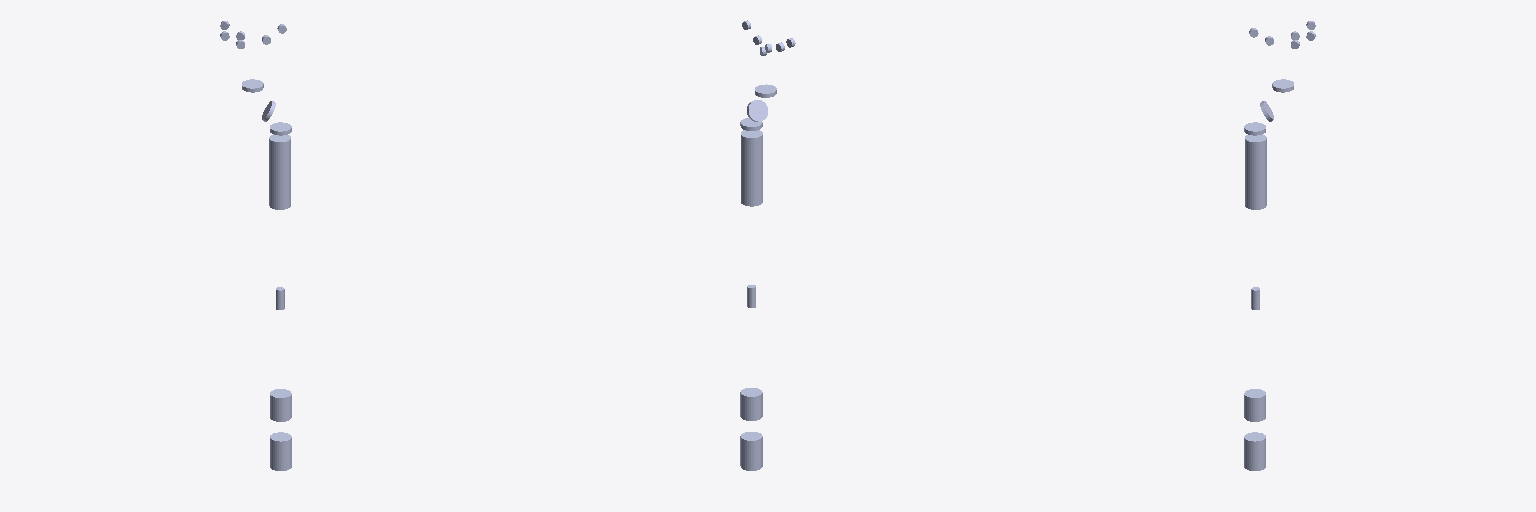
The robot description file, URDF, robot "j2n6s300":
<?xml version="1.0" ?>
<!-- =================================================================================== -->
<!-- |    This document was autogenerated by xacro from j2n6s300_standalone.xacro      | -->
<!-- |    EDITING THIS FILE BY HAND IS NOT RECOMMENDED                                 | -->
<!-- =================================================================================== -->
<!-- j2n6s300 refers to jaco v2 6DOF non-spherical 3fingers -->
<robot name="j2n6s300" xmlns:body="http://playerstage.sourceforge.net/gazebo/xmlschema/#body" xmlns:controller="http://playerstage.sourceforge.net/gazebo/xmlschema/#controller" xmlns:gazebo="http://playerstage.sourceforge.net/gazebo/xmlschema/#gz" xmlns:geom="http://playerstage.sourceforge.net/gazebo/xmlschema/#geom" xmlns:interface="http://playerstage.sourceforge.net/gazebo/xmlschema/#interface" xmlns:joint="http://playerstage.sourceforge.net/gazebo/xmlschema/#joint" xmlns:model="http://playerstage.sourceforge.net/gazebo/xmlschema/#model" xmlns:physics="http://playerstage.sourceforge.net/gazebo/xmlschema/#physics" xmlns:renderable="http://playerstage.sourceforge.net/gazebo/xmlschema/#renderable" xmlns:rendering="http://playerstage.sourceforge.net/gazebo/xmlschema/#rendering" xmlns:sensor="http://playerstage.sourceforge.net/gazebo/xmlschema/#sensor" xmlns:xacro="http://ros.org/wiki/xacro" xmlns:xi="http://www.w3.org/2001/XInclude">
  <!-- links      		mesh_no
   base           		0
   shoulder       		1
   arm            		2
   forearm        		3
   wrist          		4
   arm_mico       		5
   arm_half1 (7dof)		6
   arm_half2 (7dof)		7
   wrist_spherical_1  8
   wrist_spherical_2  9

   hand 3 finger  		55
   hand_2finger   		56
   finger_proximal		57
   finger_distal      58 
-->
  <!-- links      		mesh_no
   base           		0
   shoulder       		1
   arm            		2
   forearm        		3
   wrist          		4
   arm_mico       		5
   arm_half1 (7dof)		6
   arm_half2 (7dof)		7
   wrist_spherical_1  8
   wrist_spherical_2  9

   hand 3 finger  		55
   hand_2finger   		56
   finger_proximal		57
   finger_distal      58 
-->
  <link name="root">
    <visual>
      <origin rpy="0 0 0" xyz="0 0 0"/>
      <geometry>
        <box size="0 0 0"/>
      </geometry>
      <!--<material name="Black" /> -->
    </visual>
    <collision>
      <origin rpy="0 0 0" xyz="0 0 0"/>
      <geometry>
        <box size="0 0 0"/>
      </geometry>
    </collision>
  </link>
  <!-- for gazebo -->
  <link name="world"/>
  <joint name="connect_root_and_world" type="fixed">
    <child link="root"/>
    <parent link="world"/>
    <origin rpy="0 0 0" xyz="0 0 0"/>
  </joint>
  <!-- ros_control plugin -->
  <gazebo>
    <plugin filename="libgazebo_ros_control.so" name="gazebo_ros_control">
      <robotNamespace>j2n6s300</robotNamespace>
      <robotSimType>gazebo_ros_control/DefaultRobotHWSim</robotSimType>
    </plugin>
  </gazebo>
  <link name="j2n6s300_link_base">
    <visual>
      <origin rpy="0 0 0" xyz="0 0 0.1"/>
      <geometry>
        <cylinder length="0.075" radius="0.025"/>
      </geometry>
      <material name="carbon_fiber">
        <color rgba="0.792156862745098 0.819607843137255 0.933333333333333 1"/>
      </material>
    </visual>
    <collision>
      <origin rpy="0 0 0" xyz="0 0 0.1"/>
      <geometry>
        <cylinder length="0.075" radius="0.025"/>
      </geometry>
    </collision>
    <inertial>
      <mass value="0.46784"/>
      <origin rpy="0 0 0" xyz="0 0 0.1255"/>
      <inertia ixx="0.000951270861568" ixy="0" ixz="0" iyy="0.000951270861568" iyz="0" izz="0.000374272"/>
    </inertial>
  </link>
  <joint name="j2n6s300_joint_base" type="fixed">
    <parent link="root"/>
    <child link="j2n6s300_link_base"/>
    <axis xyz="0 0 0"/>
    <limit effort="2000" lower="0" upper="0" velocity="1"/>
    <origin rpy="0 0 0" xyz="0 0 0"/>
    <dynamics damping="0.0" friction="0.0"/>
  </joint>
  <link name="j2n6s300_link_1">
    <visual>
      <origin rpy="0 0 0" xyz="0 0 -0.06"/>
      <geometry>
        <cylinder length="0.06" radius="0.025"/>
      </geometry>
      <material name="carbon_fiber">
        <color rgba="0.792156862745098 0.819607843137255 0.933333333333333 1"/>
      </material>
    </visual>
    <collision>
      <origin rpy="0 0 0" xyz="0 0 -0.06"/>
      <geometry>
        <cylinder length="0.06" radius="0.025"/>
      </geometry>
    </collision>
    <inertial>
      <mass value="0.7477"/>
      <origin xyz="0 -0.002 -0.0605"/>
      <inertia ixx="0.00152031725204" ixy="0" ixz="0" iyy="0.00152031725204" iyz="0" izz="0.00059816"/>
    </inertial>
  </link>
  <joint name="j2n6s300_joint_1" type="continuous">
    <parent link="j2n6s300_link_base"/>
    <child link="j2n6s300_link_1"/>
    <axis xyz="0 0 1"/>
    <limit effort="2000" lower="-6.28318530718" upper="6.28318530718" velocity="1"/>
    <origin rpy="0 3.14159265359 0" xyz="0 0 0.15675"/>
    <dynamics damping="0.0" friction="0.0"/>
  </joint>
  <transmission name="j2n6s300_joint_1_trans">
    <type>transmission_interface/SimpleTransmission</type>
    <joint name="j2n6s300_joint_1">
      <hardwareInterface>EffortJointInterface</hardwareInterface>
    </joint>
    <actuator name="j2n6s300_joint_1_actuator">
      <hardwareInterface>EffortJointInterface</hardwareInterface>
      <mechanicalReduction>160</mechanicalReduction>
    </actuator>
  </transmission>
  <link name="j2n6s300_link_2">
    <visual>
      <origin rpy="1.57079632679 0 0" xyz="0 -0.21 0"/>
      <geometry>
        <cylinder length="0.05" radius="0.01"/>
      </geometry>
      <material name="carbon_fiber">
        <color rgba="0.792156862745098 0.819607843137255 0.933333333333333 1"/>
      </material>
    </visual>
    <collision>
      <origin rpy="1.57079632679 0 0" xyz="0 -0.21 0"/>
      <geometry>
        <cylinder length="0.3" radius="0.025"/>
      </geometry>
    </collision>
    <inertial>
      <mass value="0.99"/>
      <origin xyz="0 -0.2065 -0.01"/>
      <inertia ixx="0.010502207991" ixy="0" ixz="0" iyy="0.000792" iyz="0" izz="0.010502207991"/>
    </inertial>
  </link>
  <joint name="j2n6s300_joint_2" type="revolute">
    <parent link="j2n6s300_link_1"/>
    <child link="j2n6s300_link_2"/>
    <axis xyz="0 0 1"/>
    <limit effort="2000" lower="-2.618" upper="2.613" velocity="1"/>
    <origin rpy="-1.57079632679 3.1415 3.14159265359" xyz="0 0.0016 -0.11875"/>
    <dynamics damping="0.0" friction="0.0"/>
  </joint>
  <transmission name="j2n6s300_joint_2_trans">
    <type>transmission_interface/SimpleTransmission</type>
    <joint name="j2n6s300_joint_2">
      <hardwareInterface>EffortJointInterface</hardwareInterface>
    </joint>
    <actuator name="j2n6s300_joint_2_actuator">
      <hardwareInterface>EffortJointInterface</hardwareInterface>
      <mechanicalReduction>160</mechanicalReduction>
    </actuator>
  </transmission>
  <link name="j2n6s300_link_3">
    <visual>
      <origin rpy="1.57079632679 0 0" xyz="0 0.12 0"/>
      <geometry>
        <cylinder length="0.17" radius="0.025"/>
      </geometry>
      <material name="carbon_fiber">
        <color rgba="0.792156862745098 0.819607843137255 0.933333333333333 1"/>
      </material>
    </visual>
    <collision>
      <origin rpy="1.57079632679 0 0" xyz="0 0.12 0"/>
      <geometry>
        <cylinder length="0.17" radius="0.025"/>
      </geometry>
    </collision>
    <inertial>
      <mass value="0.6763"/>
      <origin xyz="0 0.081 -0.0086"/>
      <inertia ixx="0.00142022431908" ixy="0" ixz="0" iyy="0.000304335" iyz="0" izz="0.00142022431908"/>
    </inertial>
  </link>
  <joint name="j2n6s300_joint_3" type="revolute">
    <parent link="j2n6s300_link_2"/>
    <child link="j2n6s300_link_3"/>
    <axis xyz="0 0 1"/>
    <limit effort="2000" lower="-2.618" upper="2.613" velocity="1"/>
    <origin rpy="0 3.14159265359 3.1415" xyz="0 -0.410 0"/>
    <dynamics damping="0.0" friction="0.0"/>
  </joint>
  <transmission name="j2n6s300_joint_3_trans">
    <type>transmission_interface/SimpleTransmission</type>
    <joint name="j2n6s300_joint_3">
      <hardwareInterface>EffortJointInterface</hardwareInterface>
    </joint>
    <actuator name="j2n6s300_joint_3_actuator">
      <hardwareInterface>EffortJointInterface</hardwareInterface>
      <mechanicalReduction>160</mechanicalReduction>
    </actuator>
  </transmission>
  <link name="j2n6s300_link_4">
    <visual>
      <origin rpy="0 0 0" xyz="0 -0.01 -0.02"/>
      <geometry>
        <cylinder length="0.01" radius="0.025"/>
      </geometry>
      <material name="carbon_fiber">
        <color rgba="0.792156862745098 0.819607843137255 0.933333333333333 1"/>
      </material>
    </visual>
    <collision>
      <origin rpy="0 0 0" xyz="0 -0.01 -0.02"/>
      <geometry>
        <cylinder length="0.01" radius="0.025"/>
      </geometry>
    </collision>
    <inertial>
      <mass value="0.1785"/>
      <origin xyz="0 -0.037 -0.0642"/>
      <inertia ixx="7.73496906e-05" ixy="0" ixz="0" iyy="7.73496906e-05" iyz="0" izz="0.0001428"/>
    </inertial>
  </link>
  <joint name="j2n6s300_joint_4" type="continuous">
    <parent link="j2n6s300_link_3"/>
    <child link="j2n6s300_link_4"/>
    <axis xyz="0 0 1"/>
    <limit effort="2000" lower="-6.28318530718" upper="6.28318530718" velocity="1"/>
    <origin rpy="-1.57079632679 0 3.14159265359" xyz="0 0.2073 -0.0114"/>
    <dynamics damping="0.0" friction="0.0"/>
  </joint>
  <transmission name="j2n6s300_joint_4_trans">
    <type>transmission_interface/SimpleTransmission</type>
    <joint name="j2n6s300_joint_4">
      <hardwareInterface>EffortJointInterface</hardwareInterface>
    </joint>
    <actuator name="j2n6s300_joint_4_actuator">
      <hardwareInterface>EffortJointInterface</hardwareInterface>
      <mechanicalReduction>160</mechanicalReduction>
    </actuator>
  </transmission>
  <link name="j2n6s300_link_5">
    <visual>
      <geometry>
        <cylinder length="0.01" radius="0.025"/>
      </geometry>
      <material name="carbon_fiber">
        <color rgba="0.792156862745098 0.819607843137255 0.933333333333333 1"/>
      </material>
    </visual>
    <collision>
      <geometry>
        <cylinder length="0.01" radius="0.025"/>
      </geometry>
    </collision>
    <inertial>
      <mass value="0.1785"/>
      <origin xyz="0 -0.037 -0.0642"/>
      <inertia ixx="7.73496906e-05" ixy="0" ixz="0" iyy="7.73496906e-05" iyz="0" izz="0.0001428"/>
    </inertial>
  </link>
  <joint name="j2n6s300_joint_5" type="continuous">
    <parent link="j2n6s300_link_4"/>
    <child link="j2n6s300_link_5"/>
    <axis xyz="0 0 1"/>
    <limit effort="2000" lower="-6.28318530718" upper="6.28318530718" velocity="1"/>
    <origin rpy="1.0471975512 0 3.14159265359" xyz="0 -0.03703 -0.06414"/>
    <dynamics damping="0.0" friction="0.0"/>
  </joint>
  <transmission name="j2n6s300_joint_5_trans">
    <type>transmission_interface/SimpleTransmission</type>
    <joint name="j2n6s300_joint_5">
      <hardwareInterface>EffortJointInterface</hardwareInterface>
    </joint>
    <actuator name="j2n6s300_joint_5_actuator">
      <hardwareInterface>EffortJointInterface</hardwareInterface>
      <mechanicalReduction>160</mechanicalReduction>
    </actuator>
  </transmission>
  <link name="j2n6s300_link_6">
    <visual>
      <geometry>
        <cylinder length="0.01" radius="0.025"/>
      </geometry>
      <material name="carbon_fiber">
        <color rgba="0.792156862745098 0.819607843137255 0.933333333333333 1"/>
      </material>
    </visual>
    <collision>
      <geometry>
        <cylinder length="0.01" radius="0.025"/>
      </geometry>
    </collision>
    <inertial>
      <mass value="0.727"/>
      <origin xyz="0 0 -0.06"/>
      <inertia ixx="0.0003453236187" ixy="0" ixz="0" iyy="0.0003453236187" iyz="0" izz="0.0005816"/>
    </inertial>
  </link>
  <joint name="j2n6s300_joint_6" type="continuous">
    <parent link="j2n6s300_link_5"/>
    <child link="j2n6s300_link_6"/>
    <axis xyz="0 0 1"/>
    <limit effort="2000" lower="-6.28318530718" upper="6.28318530718" velocity="1"/>
    <origin rpy="1.0471975512 0 3.14159265359" xyz="0 -0.03703 -0.06414"/>
    <dynamics damping="0.0" friction="0.0"/>
  </joint>
  <transmission name="j2n6s300_joint_6_trans">
    <type>transmission_interface/SimpleTransmission</type>
    <joint name="j2n6s300_joint_6">
      <hardwareInterface>EffortJointInterface</hardwareInterface>
    </joint>
    <actuator name="j2n6s300_joint_6_actuator">
      <hardwareInterface>EffortJointInterface</hardwareInterface>
      <mechanicalReduction>160</mechanicalReduction>
    </actuator>
  </transmission>
  <link name="j2n6s300_end_effector">
    <visual>
      <geometry>
        <box size="0 0 0"/>
      </geometry>
    </visual>
<!--     <collision>
      <geometry>
        <box size="0 0 0"/>
      </geometry>
    </collision> -->
    <inertial>
      <mass value="0.01"/>
      <origin xyz="0.022 0 0"/>
      <inertia ixx="7.8999684e-07" ixy="0" ixz="0" iyy="7.8999684e-07" iyz="0" izz="8e-08"/>
    </inertial>
  </link>
  <joint name="j2n6s300_joint_end_effector" type="fixed">
    <parent link="j2n6s300_link_6"/>
    <child link="j2n6s300_end_effector"/>
    <axis xyz="0 0 0"/>
    <limit effort="2000" lower="0" upper="0" velocity="1"/>
    <origin rpy="3.14159265359 0 0" xyz="0 0 -0.1600"/>
  </joint>
  <link name="j2n6s300_link_finger_1">
    <visual>
      <geometry>
        <cylinder length="0.01" radius="0.01"/>
      </geometry>
      <material name="carbon_fiber">
        <color rgba="0.792156862745098 0.819607843137255 0.933333333333333 1"/>
      </material>
    </visual>
    <collision>
      <geometry>
        <cylinder length="0.01" radius="0.01"/>
      </geometry>
    </collision>
    <inertial>
      <mass value="0.01"/>
      <origin xyz="0.022 0 0"/>
      <inertia ixx=".0026" ixy="0" ixz="0" iyy=".0026" iyz="0" izz=".0026"/>
    </inertial>
  </link>
  <joint name="j2n6s300_joint_finger_1" type="revolute">
    <parent link="j2n6s300_link_6"/>
    <child link="j2n6s300_link_finger_1"/>
    <axis xyz="0 0 1"/>
    <origin rpy="-1.570796327 .649262481663582 1.35961148639407" xyz="0.00279 0.03126 -0.11467"/>
    <limit effort="2000" lower="0" upper="2" velocity="1"/>
  </joint>
  <transmission name="j2n6s300_joint_finger_1_trans">
    <type>transmission_interface/SimpleTransmission</type>
    <joint name="j2n6s300_joint_finger_1">
      <hardwareInterface>EffortJointInterface</hardwareInterface>
    </joint>
    <actuator name="j2n6s300_joint_finger_1_actuator">
      <hardwareInterface>EffortJointInterface</hardwareInterface>
      <mechanicalReduction>1</mechanicalReduction>
    </actuator>
  </transmission>
  <link name="j2n6s300_link_finger_tip_1">
    <visual>
      <geometry>
        <cylinder length="0.01" radius="0.01"/>
      </geometry>
      <material name="carbon_fiber">
        <color rgba="0.792156862745098 0.819607843137255 0.933333333333333 1"/>
      </material>
    </visual>
    <collision>
      <geometry>
        <cylinder length="0.01" radius="0.01"/>
      </geometry>
    </collision>
    <inertial>
      <mass value="0.01"/>
      <origin xyz="0.022 0 0"/>
      <inertia ixx=".0026" ixy="0" ixz="0" iyy=".0026" iyz="0" izz=".0026"/>
    </inertial>
  </link>
  <joint name="j2n6s300_joint_finger_tip_1" type="fixed">
    <parent link="j2n6s300_link_finger_1"/>
    <child link="j2n6s300_link_finger_tip_1"/>
    <axis xyz="0 0 1"/>
    <origin rpy="0 0 0" xyz="0.044 -0.003 0"/>
    <limit effort="2000" lower="0" upper="2" velocity="1"/>
  </joint>
  <link name="j2n6s300_link_finger_2">
    <visual>
      <geometry>
        <cylinder length="0.01" radius="0.01"/>
      </geometry>
      <material name="carbon_fiber">
        <color rgba="0.792156862745098 0.819607843137255 0.933333333333333 1"/>
      </material>
    </visual>
    <collision>
      <geometry>
        <cylinder length="0.01" radius="0.01"/>
      </geometry>
    </collision>
    <inertial>
      <mass value="0.01"/>
      <origin xyz="0.022 0 0"/>
      <inertia ixx=".0026" ixy="0" ixz="0" iyy=".0026" iyz="0" izz=".0026"/>
    </inertial>
  </link>
  <joint name="j2n6s300_joint_finger_2" type="revolute">
    <parent link="j2n6s300_link_6"/>
    <child link="j2n6s300_link_finger_2"/>
    <axis xyz="0 0 1"/>
    <origin rpy="-1.570796327 .649262481663582 -1.38614049188413" xyz="0.02226 -0.02707 -0.11482"/>
    <limit effort="2000" lower="0" upper="2" velocity="1"/>
  </joint>
  <transmission name="j2n6s300_joint_finger_2_trans">
    <type>transmission_interface/SimpleTransmission</type>
    <joint name="j2n6s300_joint_finger_2">
      <hardwareInterface>EffortJointInterface</hardwareInterface>
    </joint>
    <actuator name="j2n6s300_joint_finger_2_actuator">
      <hardwareInterface>EffortJointInterface</hardwareInterface>
      <mechanicalReduction>1</mechanicalReduction>
    </actuator>
  </transmission>
  <link name="j2n6s300_link_finger_tip_2">
    <visual>
      <geometry>
        <cylinder length="0.01" radius="0.01"/>
      </geometry>
      <material name="carbon_fiber">
        <color rgba="0.792156862745098 0.819607843137255 0.933333333333333 1"/>
      </material>
    </visual>
    <collision>
      <geometry>
        <cylinder length="0.01" radius="0.01"/>
      </geometry>
    </collision>
    <inertial>
      <mass value="0.01"/>
      <origin xyz="0.022 0 0"/>
      <inertia ixx=".0026" ixy="0" ixz="0" iyy=".0026" iyz="0" izz=".0026"/>
    </inertial>
  </link>
  <joint name="j2n6s300_joint_finger_tip_2" type="fixed">
    <parent link="j2n6s300_link_finger_2"/>
    <child link="j2n6s300_link_finger_tip_2"/>
    <axis xyz="0 0 1"/>
    <origin rpy="0 0 0" xyz="0.044 -0.003 0"/>
    <limit effort="2000" lower="0" upper="2" velocity="1"/>
  </joint>
  <link name="j2n6s300_link_finger_3">
    <visual>
      <geometry>
        <cylinder length="0.01" radius="0.01"/>
      </geometry>
      <material name="carbon_fiber">
        <color rgba="0.792156862745098 0.819607843137255 0.933333333333333 1"/>
      </material>
    </visual>
    <collision>
      <geometry>
        <cylinder length="0.01" radius="0.01"/>
      </geometry>
    </collision>
    <inertial>
      <mass value="0.01"/>
      <origin xyz="0.022 0 0"/>
      <inertia ixx=".0026" ixy="0" ixz="0" iyy=".0026" iyz="0" izz=".0026"/>
    </inertial>
  </link>
  <joint name="j2n6s300_joint_finger_3" type="revolute">
    <parent link="j2n6s300_link_6"/>
    <child link="j2n6s300_link_finger_3"/>
    <axis xyz="0 0 1"/>
    <origin rpy="-1.570796327 .649262481663582 -1.75545216211587" xyz="-0.02226 -0.02707 -0.11482"/>
    <limit effort="2000" lower="0" upper="2" velocity="1"/>
  </joint>
  <transmission name="j2n6s300_joint_finger_3_trans">
    <type>transmission_interface/SimpleTransmission</type>
    <joint name="j2n6s300_joint_finger_3">
      <hardwareInterface>EffortJointInterface</hardwareInterface>
    </joint>
    <actuator name="j2n6s300_joint_finger_3_actuator">
      <hardwareInterface>EffortJointInterface</hardwareInterface>
      <mechanicalReduction>1</mechanicalReduction>
    </actuator>
  </transmission>
  <link name="j2n6s300_link_finger_tip_3">
    <visual>
      <geometry>
        <cylinder length="0.01" radius="0.01"/>
      </geometry>
      <material name="carbon_fiber">
        <color rgba="0.792156862745098 0.819607843137255 0.933333333333333 1"/>
      </material>
    </visual>
    <collision>
      <geometry>
        <cylinder length="0.01" radius="0.01"/>
      </geometry>
    </collision>
    <inertial>
      <mass value="0.01"/>
      <origin xyz="0.022 0 0"/>
      <inertia ixx=".0026" ixy="0" ixz="0" iyy=".0026" iyz="0" izz=".0026"/>
    </inertial>
  </link>
  <joint name="j2n6s300_joint_finger_tip_3" type="fixed">
    <parent link="j2n6s300_link_finger_3"/>
    <child link="j2n6s300_link_finger_tip_3"/>
    <axis xyz="0 0 1"/>
    <origin rpy="0 0 0" xyz="0.044 -0.003 0"/>
    <limit effort="2000" lower="0" upper="2" velocity="1"/>
  </joint>
</robot>

--- Render facts (derived) ---
Views: 3 orthographic renders of the robot side by side, from view 1: azimuth 90°, elevation 25°; view 2: azimuth 210°, elevation 25°; view 3: azimuth 270°, elevation 25°.
Robot: j2n6s300 — 16 links, 15 joints (5 revolute, 4 continuous, 6 fixed); root link world; default pose: every joint at zero.
Links seen in each view (by area): view 1: j2n6s300_link_3, j2n6s300_link_base, j2n6s300_link_1; view 2: j2n6s300_link_3, j2n6s300_link_base, j2n6s300_link_1; view 3: j2n6s300_link_3, j2n6s300_link_base, j2n6s300_link_1.
Boxes of the visible links, x1,y1,x2,y2 form: j2n6s300_link_3: (269,134,290,209); j2n6s300_link_base: (270,432,291,470); j2n6s300_link_1: (270,389,291,421); j2n6s300_link_3: (741,130,762,206); j2n6s300_link_base: (740,432,762,470); j2n6s300_link_1: (740,388,762,420); j2n6s300_link_3: (1245,134,1266,209); j2n6s300_link_base: (1244,432,1265,470); j2n6s300_link_1: (1244,389,1265,421).
Size in the robot's own frame: 0.0716 by 0.1633 by 1.18 metres.
Geometry: primitives only (box / cylinder / sphere), no mesh files.
